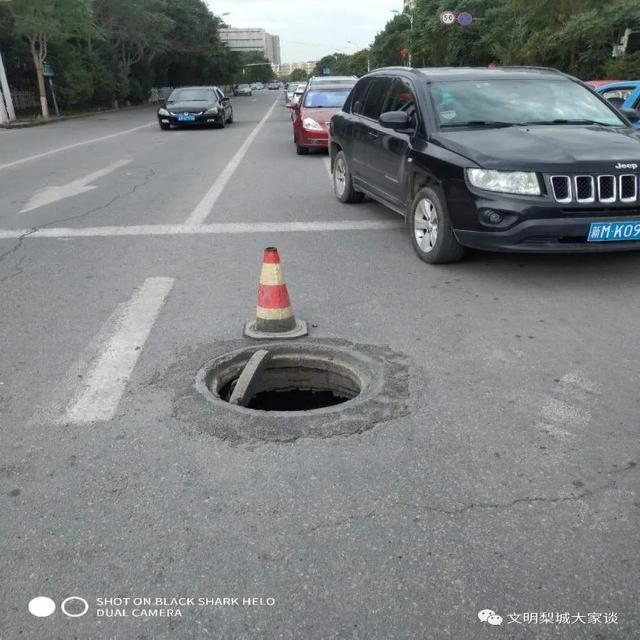manhole-cover: (159, 306, 438, 447)
